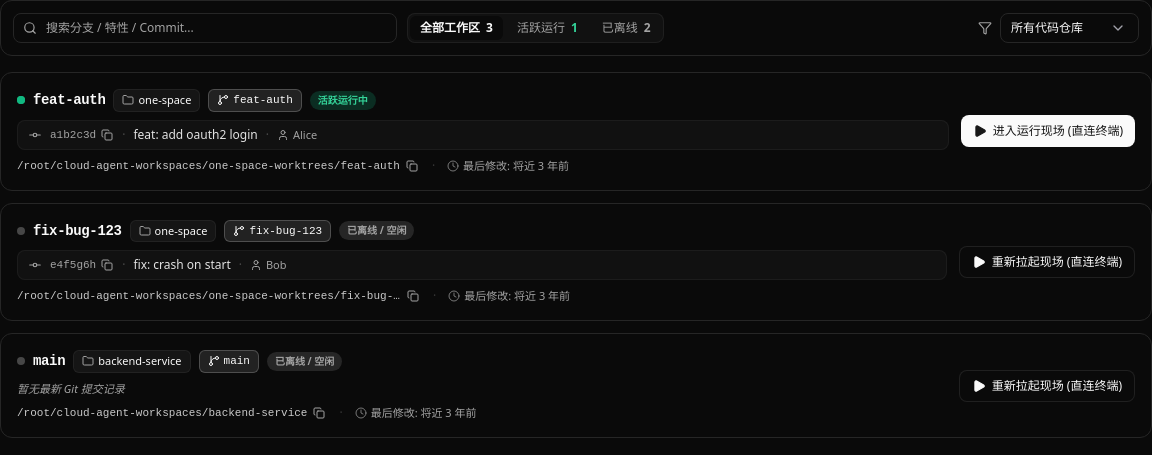
it: WorktreesHistoryTab Component › filters worktrees by status button
The width and height of the screenshot is (1152, 455).
Step 1. Click the text "活跃运行" → (541, 28), box top-left (517, 19), bottom-right (565, 36)
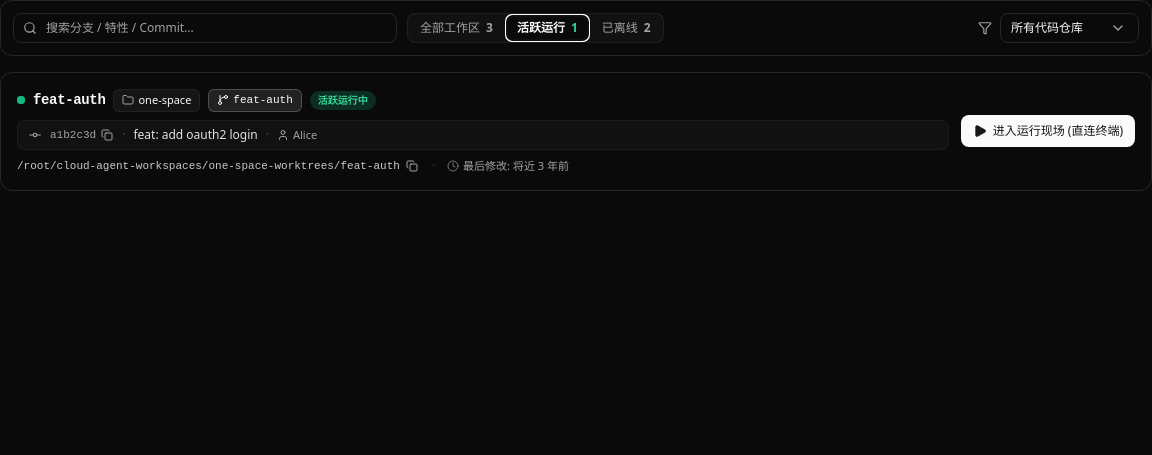
Expected: the heading "feat-auth" is shown, top-left (33, 90), bottom-right (106, 110)
Now the heading "fix-bug-123" is gone
